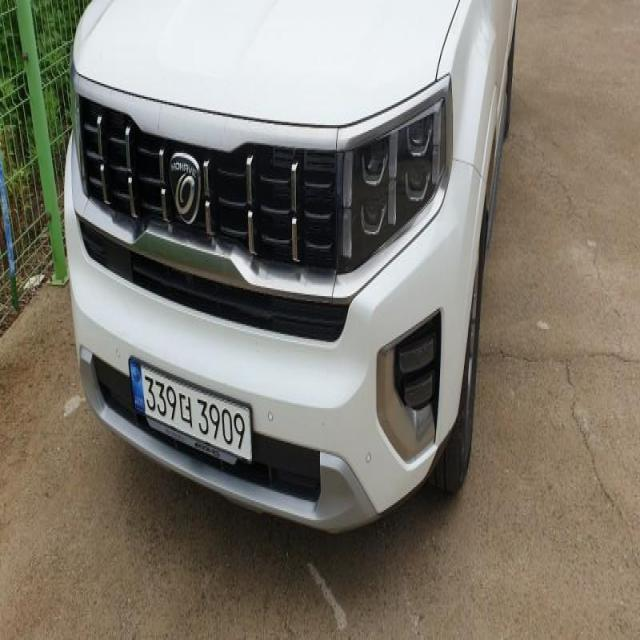illegal_plate: (132, 353, 254, 464)
